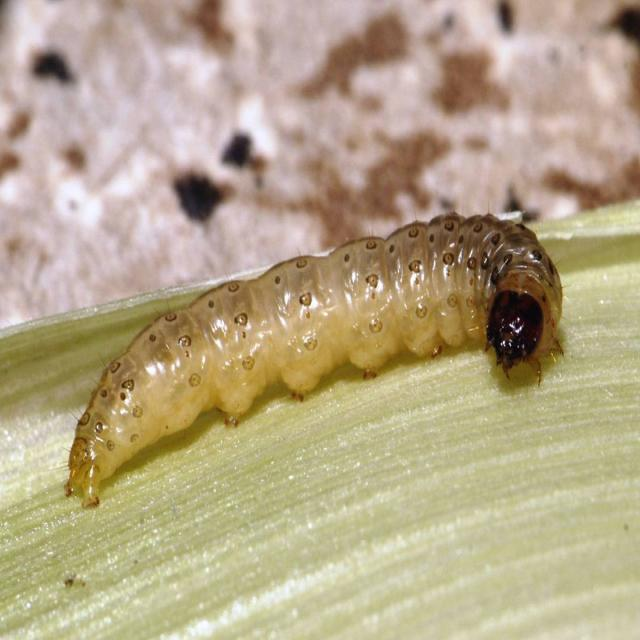cornborer-Larva-: (64, 186, 578, 519)
